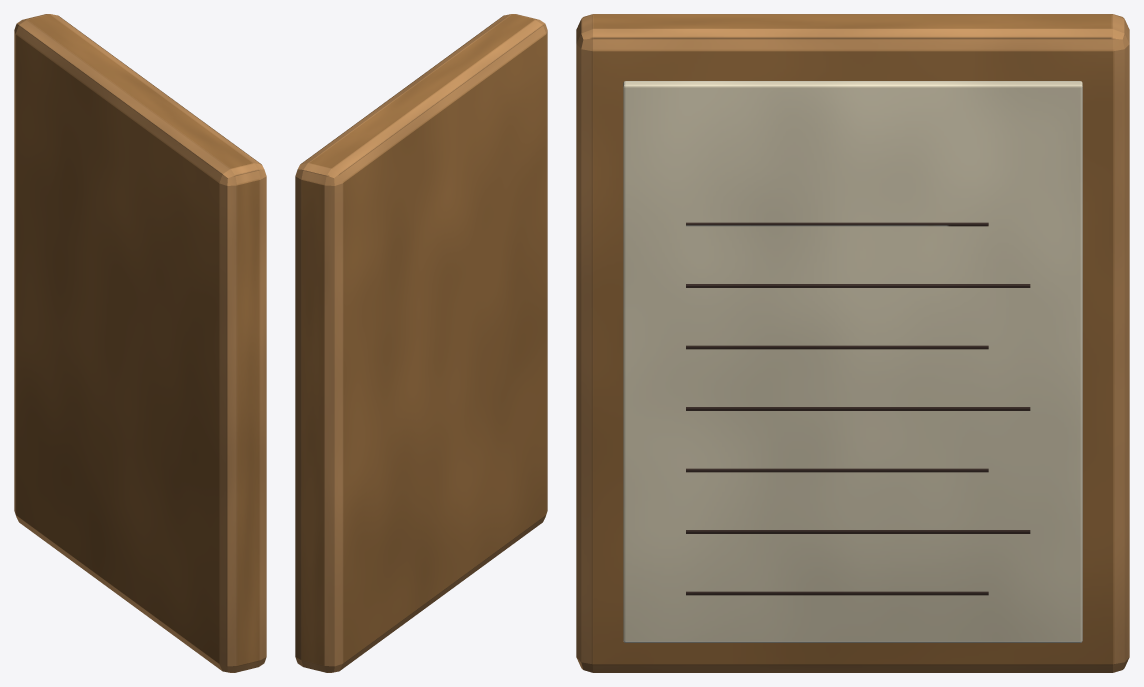
Rendered from 30_Framed_Music.fbx.
3 renders of one model, left to right at view 1: azimuth 30°, elevation 25°; view 2: azimuth 150°, elevation 25°; view 3: azimuth 270°, elevation 25°, orthographic. The views are drawn at different scales.
Parts seen in each view (by area): view 1: 30_Framed_Music; view 2: 30_Framed_Music; view 3: 30_Framed_Music.
Part boxes in pixels (x1,y1,x2,y2): 30_Framed_Music: (14,14,266,672); 30_Framed_Music: (295,14,547,672); 30_Framed_Music: (576,14,1129,672).
Bounding box in the file's own units: 8.62 × 68 × 53.
Materials: 1 (1 with a texture image).
